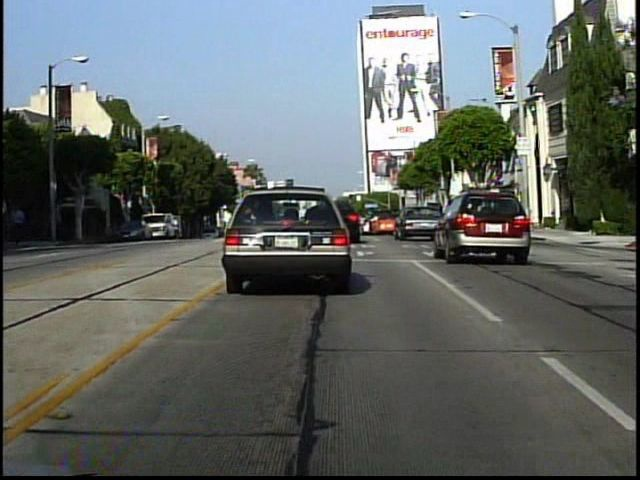person: (8, 204, 35, 253)
